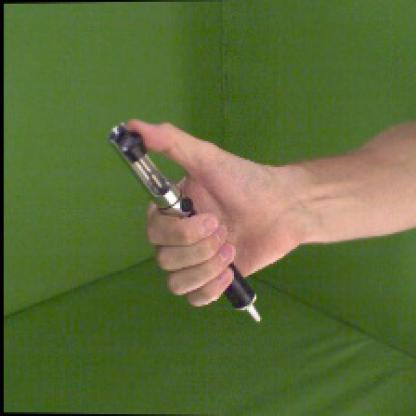Hand: (123, 119, 308, 308)
